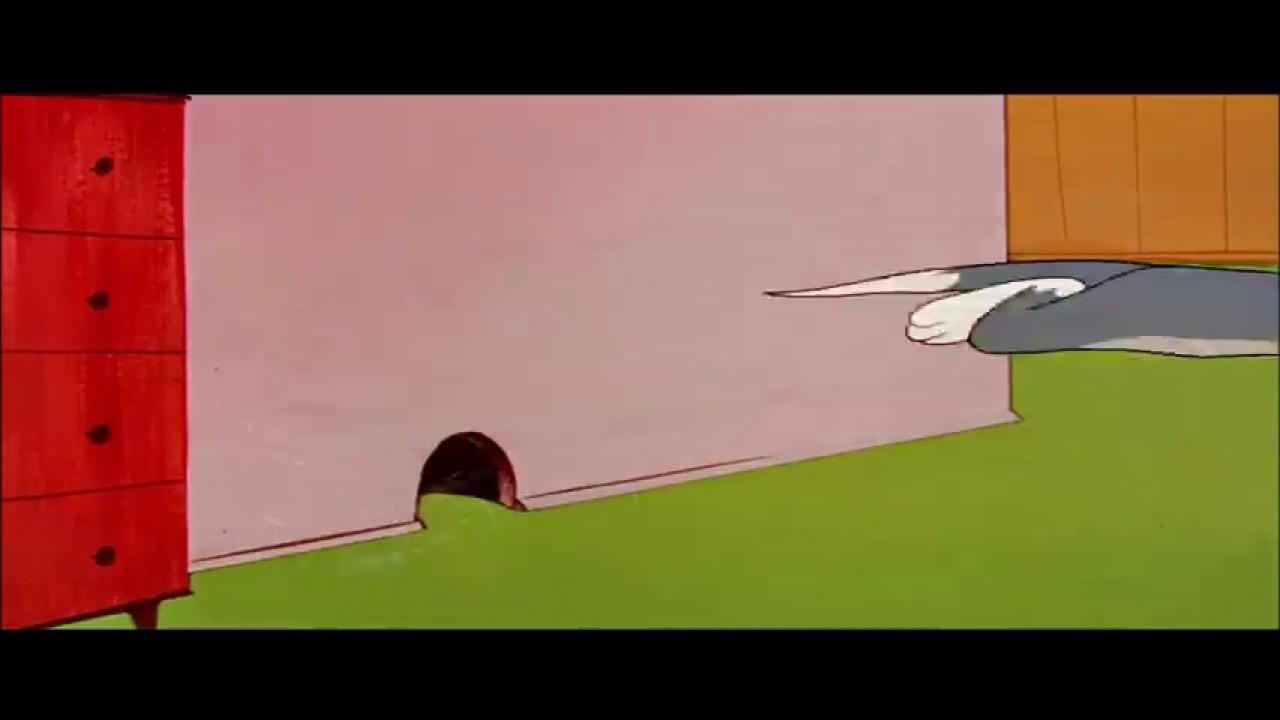Tom: (758, 256, 1280, 359)
